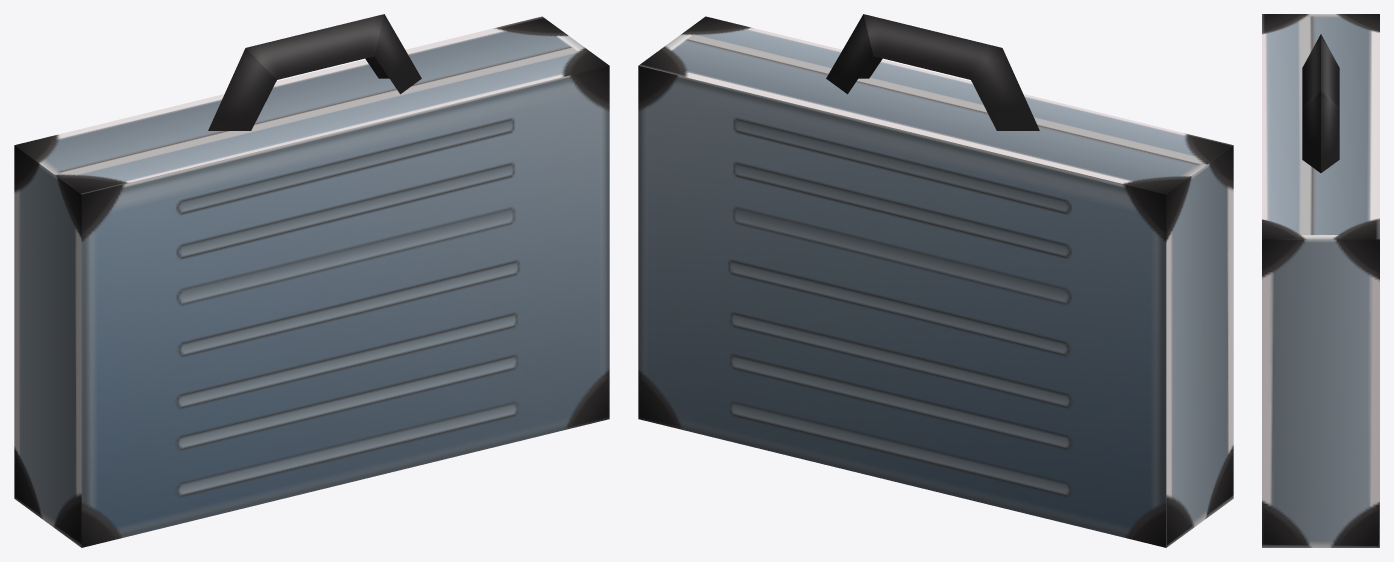
File: suitcase.fbx
3 views of the same model, side by side, from view 1: azimuth 30°, elevation 25°; view 2: azimuth 150°, elevation 25°; view 3: azimuth 270°, elevation 25° (orthographic). The views are drawn at different scales.
Visible parts, largest first — view 1: suitcase; view 2: suitcase; view 3: suitcase.
Part boxes in pixels (x1,y1,x2,y2): suitcase: (14, 14, 609, 547); suitcase: (638, 14, 1233, 547); suitcase: (1262, 14, 1379, 547).
Bounding box in the file's own units: 206 × 160 × 45.62.
